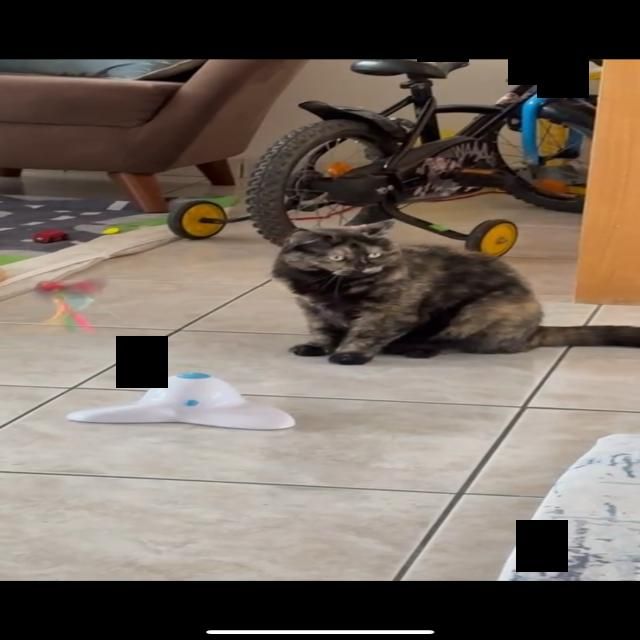authorized: (271, 219, 638, 365)
